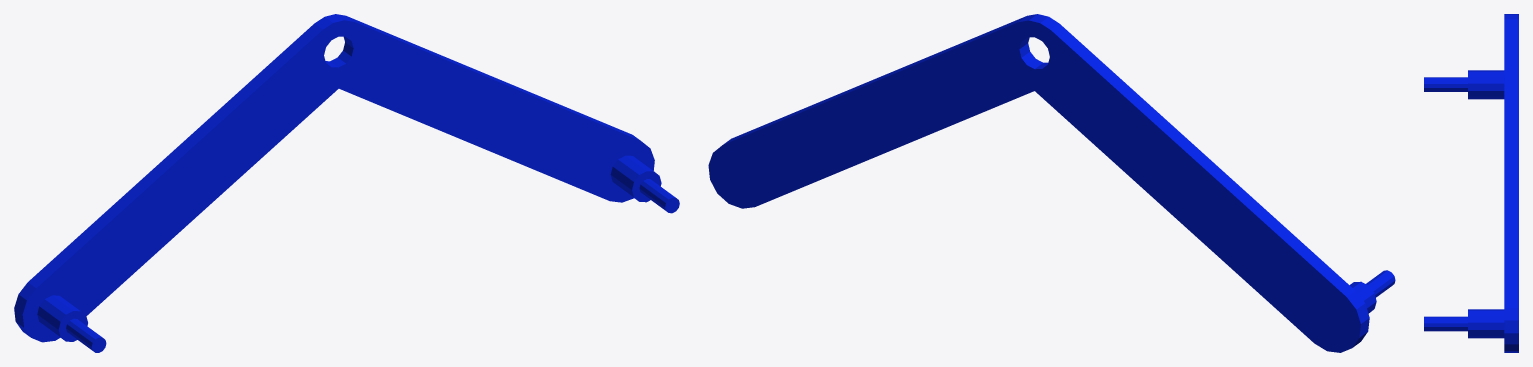
The model's file is RightViceRocket.dae.
3 views of the same model, side by side, from view 1: azimuth 30°, elevation 25°; view 2: azimuth 150°, elevation 25°; view 3: azimuth 270°, elevation 25° (orthographic). The views are drawn at different scales.
Visible parts, largest first — view 1: RightViceRocket.001; view 2: RightViceRocket.001; view 3: RightViceRocket.001.
Part boxes in pixels (x1=…): RightViceRocket.001: x1=14, y1=14, x2=679, y2=352; RightViceRocket.001: x1=708, y1=14, x2=1395, y2=352; RightViceRocket.001: x1=1424, y1=14, x2=1518, y2=352.
Size of the model in its own units: 0.8545 by 0.13 by 0.3232.
